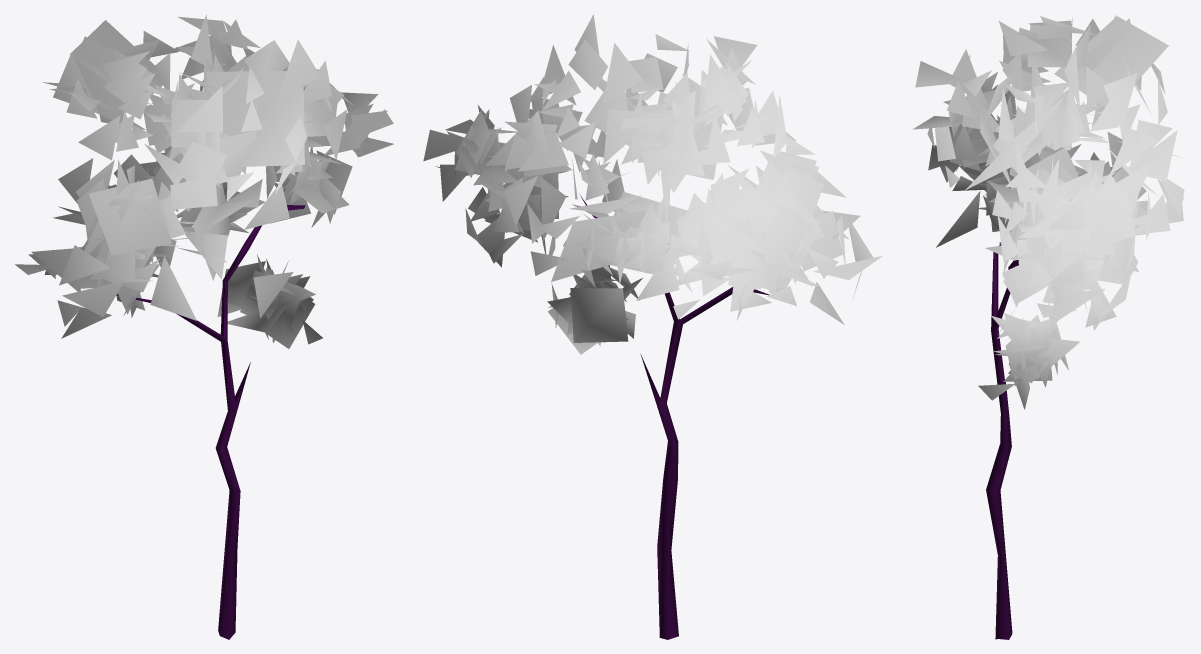
Rendered from m_TreeHigh2_LOD2.fbx.
The picture shows the model from 3 angles, left to right: view 1: azimuth 30°, elevation 25°; view 2: azimuth 150°, elevation 25°; view 3: azimuth 270°, elevation 25°; orthographic projection. The views are drawn at different scales.
Parts seen in each view (by area): view 1: TreeHigh2_LOD2; view 2: TreeHigh2_LOD2; view 3: TreeHigh2_LOD2.
Part boxes in pixels (x1,y1,x2,y2): TreeHigh2_LOD2: (15, 14, 393, 639); TreeHigh2_LOD2: (423, 14, 882, 639); TreeHigh2_LOD2: (912, 14, 1184, 639).
Size of the model in its own units: 2803 by 3990 by 1651.
